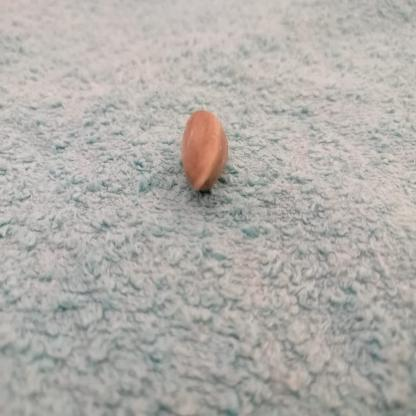pistachio: (181, 108, 230, 198)
